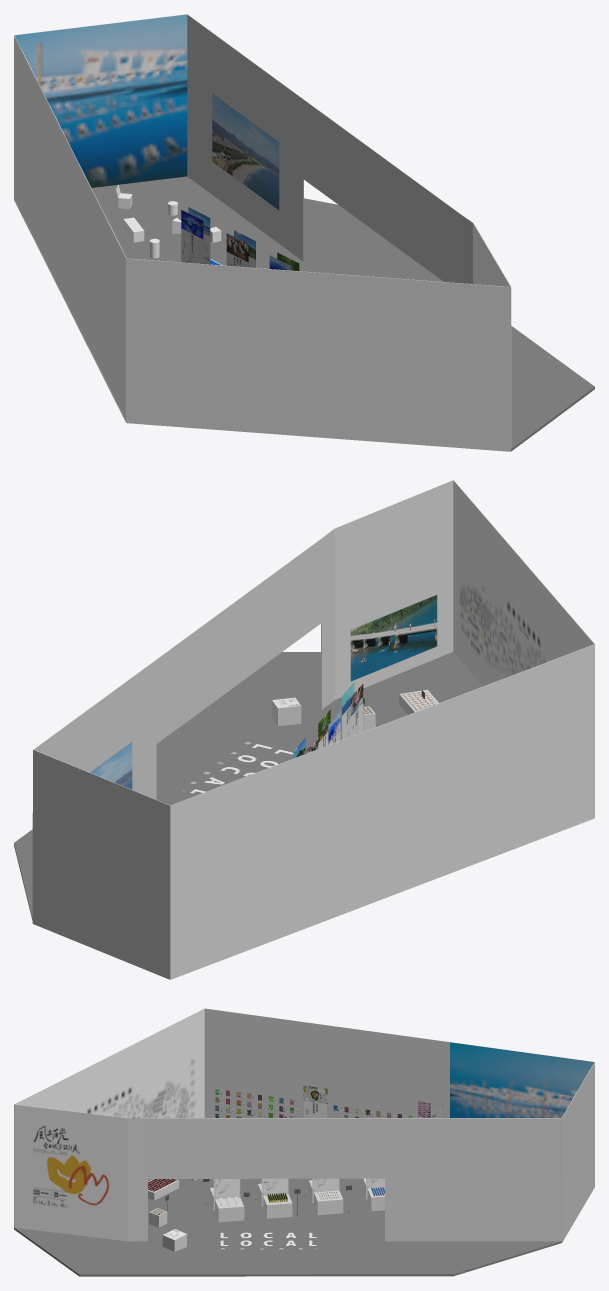
Rendered from taiwan4_128-.glb.
3 renders of one model, top to bottom at view 1: azimuth 30°, elevation 25°; view 2: azimuth 150°, elevation 25°; view 3: azimuth 270°, elevation 25°, orthographic. The views are drawn at different scales.
Parts seen in each view (by area): view 1: 立方体001_1, Cube010, 平面, Cube012, ポスター10, 立方体036, タペストリー6007, タペストリー6003; view 2: Cube010, Cube012, 平面005, 平面007, 平面004, 立方体001_1, ポスター10; view 3: Cube010, Cube012, 平面006, 平面005, 平面, 立方体001_1, 平面004, タペストリー2, タペストリー6001, タペストリー6006, タペストリー3.
Boxes of the visible parts, x1=… form: 立方体001_1: x1=126, y1=258, x2=510, y2=451; Cube010: x1=14, y1=14, x2=511, y2=448; 平面: x1=14, y1=14, x2=187, y2=187; Cube012: x1=91, y1=176, x2=594, y2=451; ポスター10: x1=212, y1=93, x2=279, y2=210; 立方体036: x1=116, y1=184, x2=221, y2=258; タペストリー6007: x1=181, y1=210, x2=203, y2=263; タペストリー6003: x1=226, y1=233, x2=248, y2=267; Cube010: x1=32, y1=480, x2=594, y2=979; Cube012: x1=14, y1=652, x2=482, y2=920; 平面005: x1=453, y1=480, x2=593, y2=686; 平面007: x1=350, y1=595, x2=437, y2=681; 平面004: x1=176, y1=739, x2=293, y2=796; 立方体001_1: x1=272, y1=480, x2=594, y2=731; ポスター10: x1=90, y1=742, x2=132, y2=789; Cube010: x1=16, y1=1008, x2=594, y2=1242; Cube012: x1=14, y1=1178, x2=561, y2=1276; 平面006: x1=14, y1=1104, x2=127, y2=1241; 平面005: x1=14, y1=1009, x2=204, y2=1118; 平面: x1=450, y1=1042, x2=594, y2=1117; 立方体001_1: x1=14, y1=1009, x2=384, y2=1251; 平面004: x1=217, y1=1232, x2=320, y2=1250; タペストリー2: x1=303, y1=1085, x2=327, y2=1117; タペストリー6001: x1=215, y1=1179, x2=240, y2=1199; タペストリー6006: x1=263, y1=1178, x2=288, y2=1195; タペストリー3: x1=418, y1=1101, x2=442, y2=1117.
Size of the model in its own units: 15.66 by 6.4 by 26.87.
76 materials, 54 textured.
